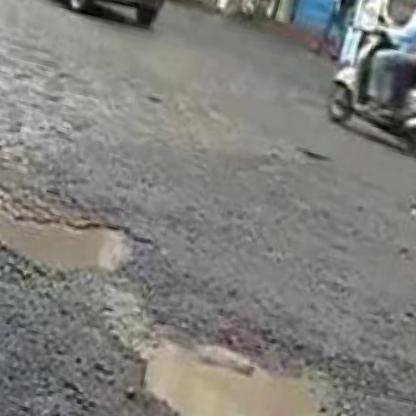pothole: (123, 305, 356, 416), (0, 165, 155, 287)
